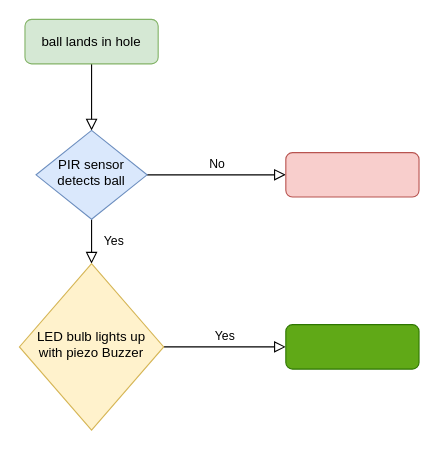
Image size: 438x450. Some labels were removed from this diagram. Here are the shapes that lost their labels. From the top down, the centre of each, then its label:
At (x=352, y=174): "No change is found in circuit".
At (x=352, y=346): "MOTION IS DETECTED".
